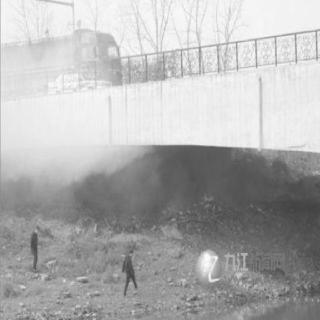Fire: (161, 192, 213, 216), (252, 203, 264, 213)
Smoke: (38, 151, 130, 179)
other: (77, 27, 123, 85)
